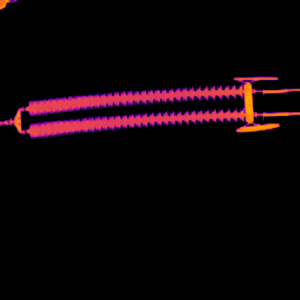insulator: (26, 82, 246, 136)
